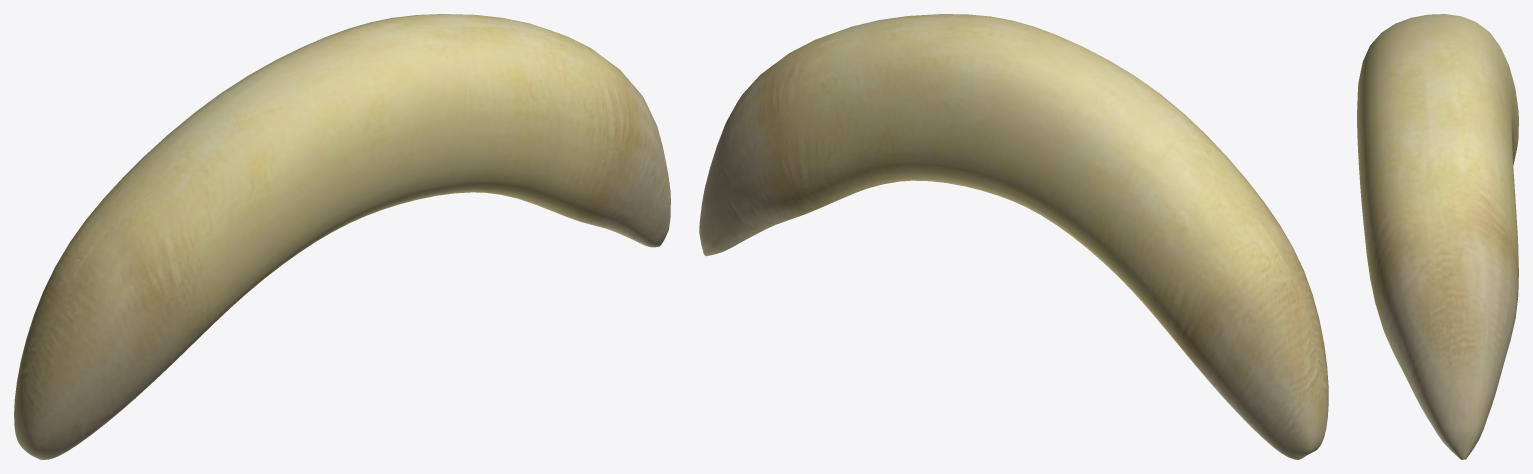
The model's file is BrownBananaEndocarp.obj.
The picture shows the model from 3 angles, left to right: view 1: azimuth 30°, elevation 25°; view 2: azimuth 150°, elevation 25°; view 3: azimuth 270°, elevation 25°; orthographic projection. The views are drawn at different scales.
Visible parts, largest first — view 1: BrownBananaEndocarp; view 2: BrownBananaEndocarp; view 3: BrownBananaEndocarp.
Boxes of the visible parts, box(x1,y1,x2,y2) form: BrownBananaEndocarp: box(14, 14, 670, 459); BrownBananaEndocarp: box(699, 14, 1328, 459); BrownBananaEndocarp: box(1357, 14, 1518, 459).
Size of the model in its own units: 0.1782 by 0.0941 by 0.0409.
Materials: 1 (1 with a texture image).
